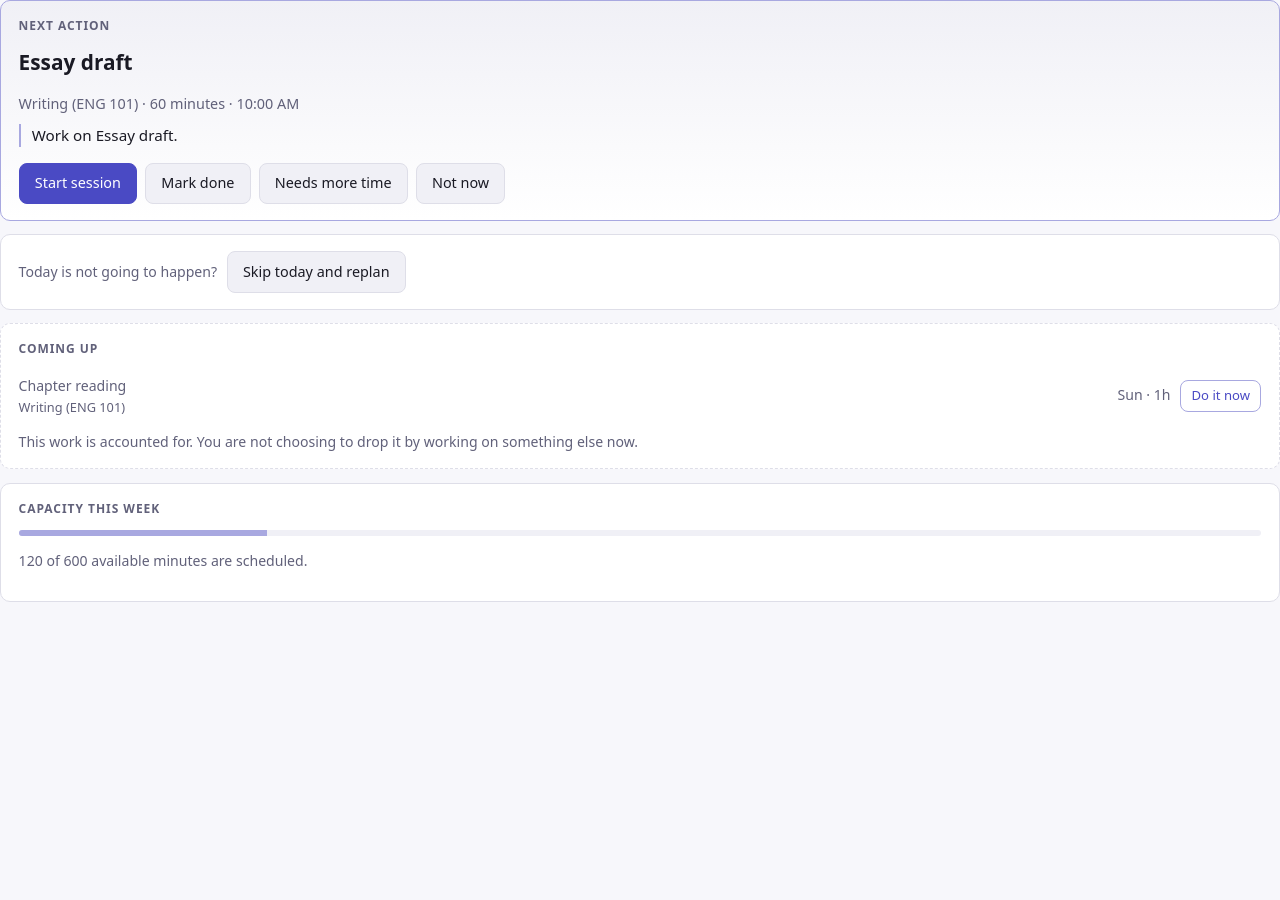
Today, do it now on a Coming up row › moves tomorrow's block into the current slot and replans
Click the button with class "do-now": (1221, 396) [1180,380,1261,412]
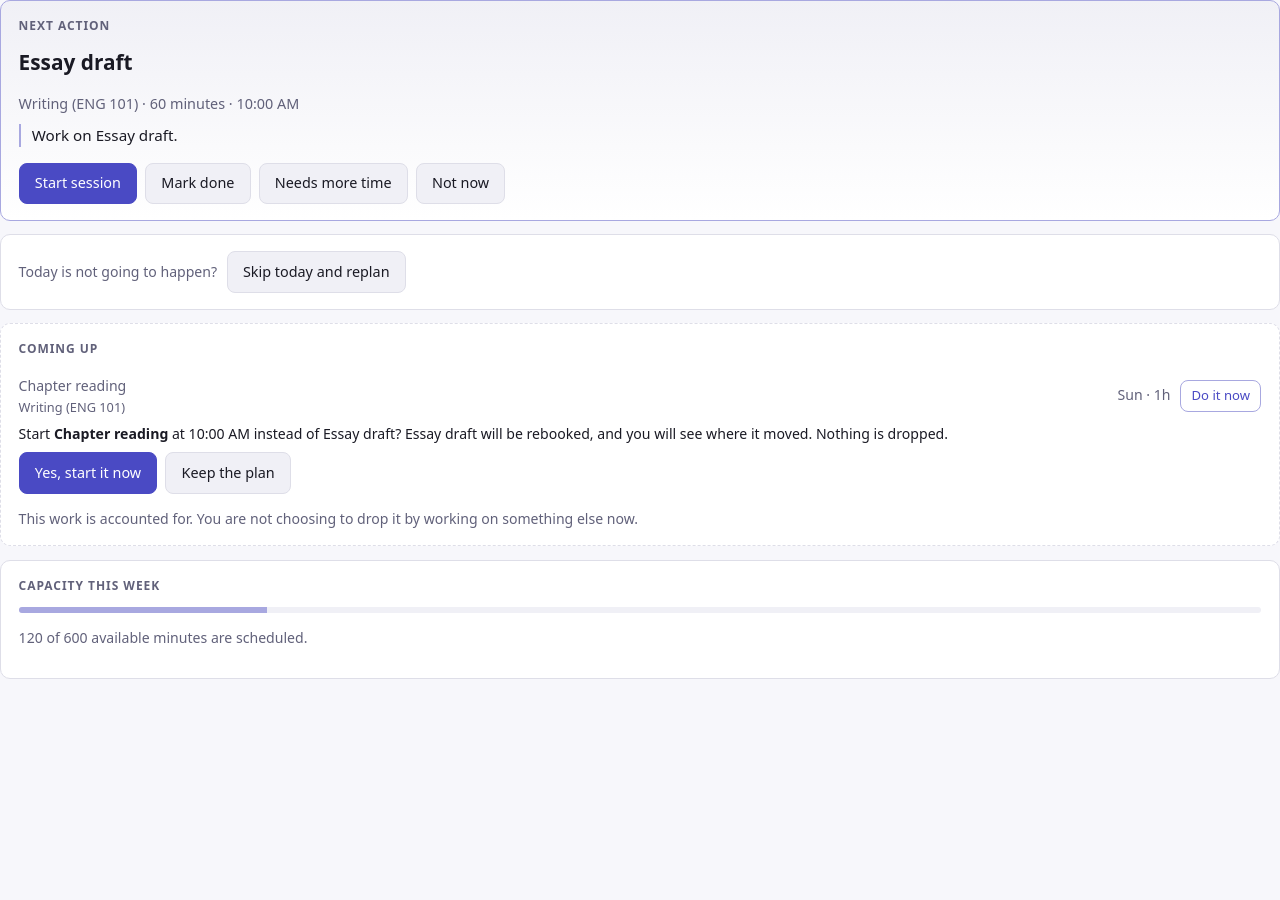
Expected: the button "Yes, start it now" is shown
Click the button "Yes, start it now": (88, 473) [19,452,157,494]
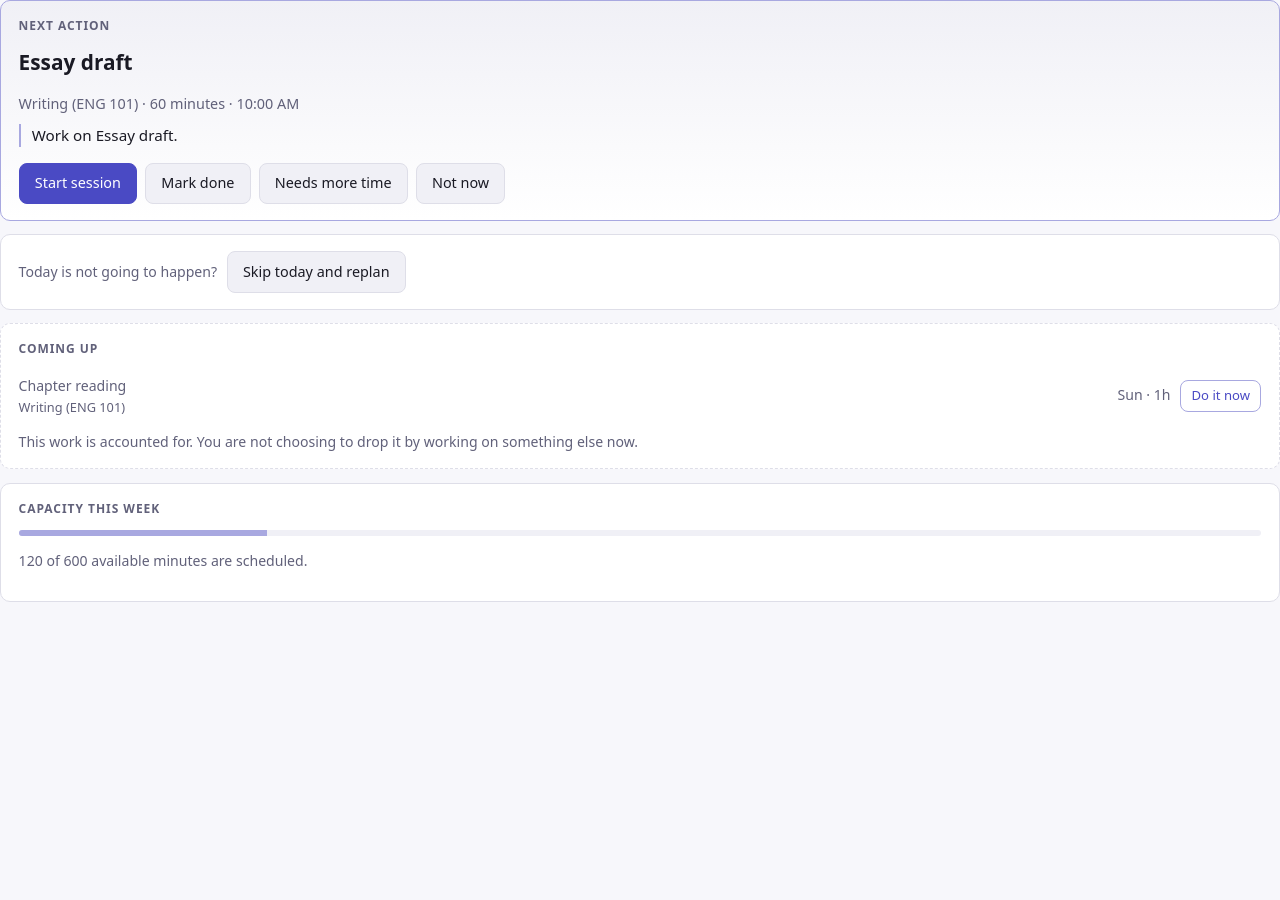
Expected: the button "Yes, start it now" no longer shows "Yes, start it now"
